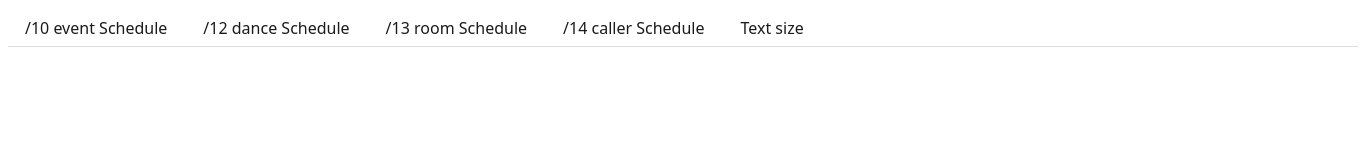
Scenario: Nav › closes the dropdown when a size is selected
Click the button "Text size".
click(772, 28)  # box [724,8,821,47]
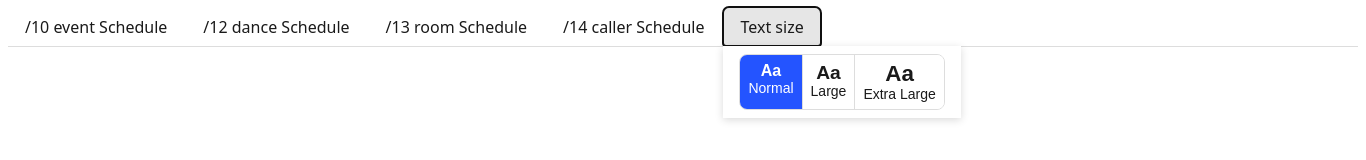
Click the button "Aa Large".
click(829, 82)  # box [803,55,855,109]
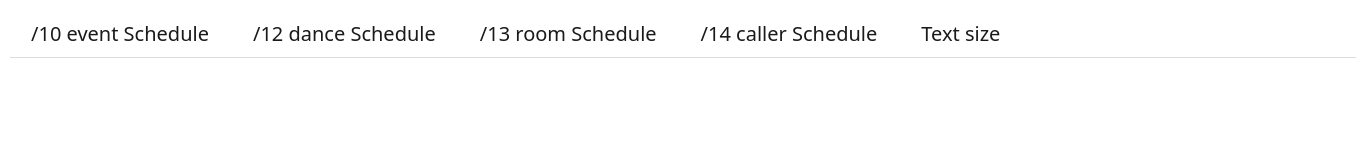
Expected: the button "Text size" is collapsed, [900,9,1021,57]
